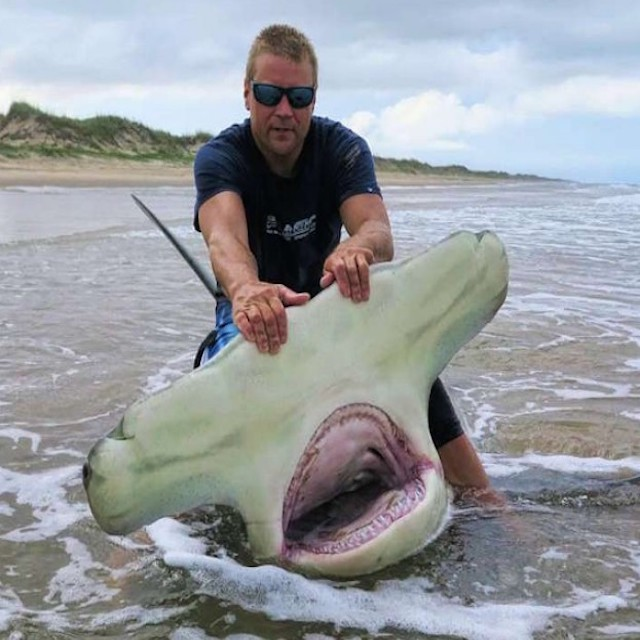hammerhead: (63, 172, 521, 595)
